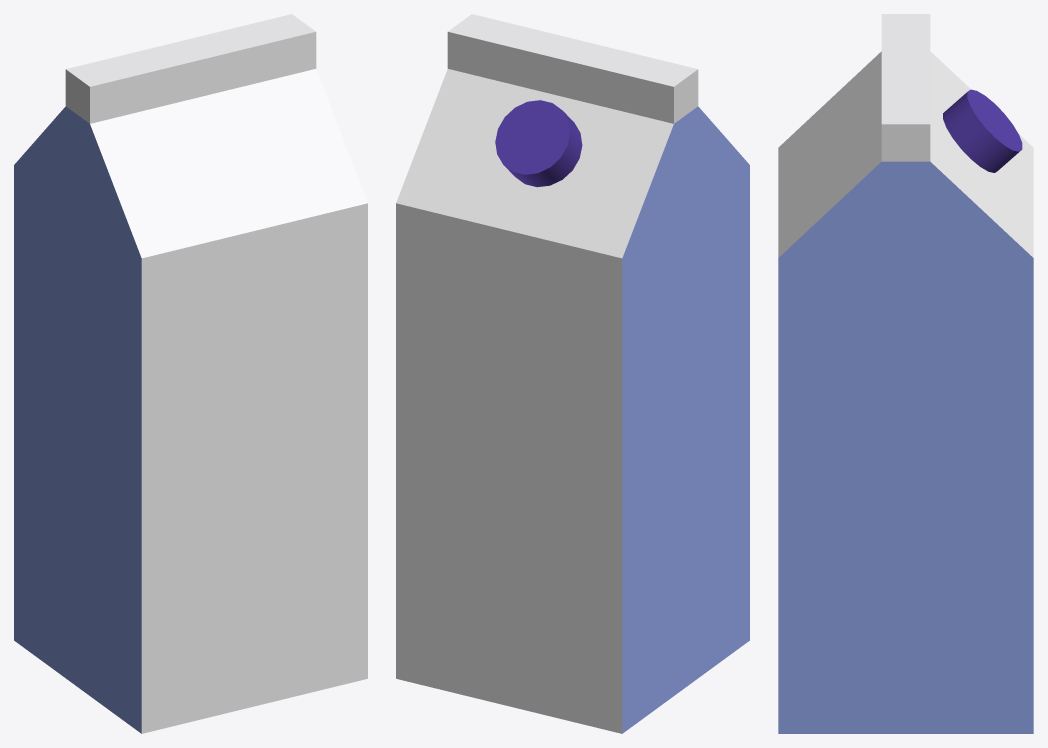
Rendered from Milk_cart.gltf.
The picture shows the model from 3 angles, left to right: view 1: azimuth 30°, elevation 25°; view 2: azimuth 150°, elevation 25°; view 3: azimuth 270°, elevation 25°; orthographic projection.
Visible parts, largest first — view 1: Milk_cart; view 2: Milk_cart; view 3: Milk_cart.
Part boxes in pixels (x1,y1,x2,y2): Milk_cart: [14, 14, 367, 733]; Milk_cart: [396, 14, 749, 733]; Milk_cart: [778, 14, 1033, 733].
Size of the model in its own units: 10.74 by 27.63 by 10.5.
